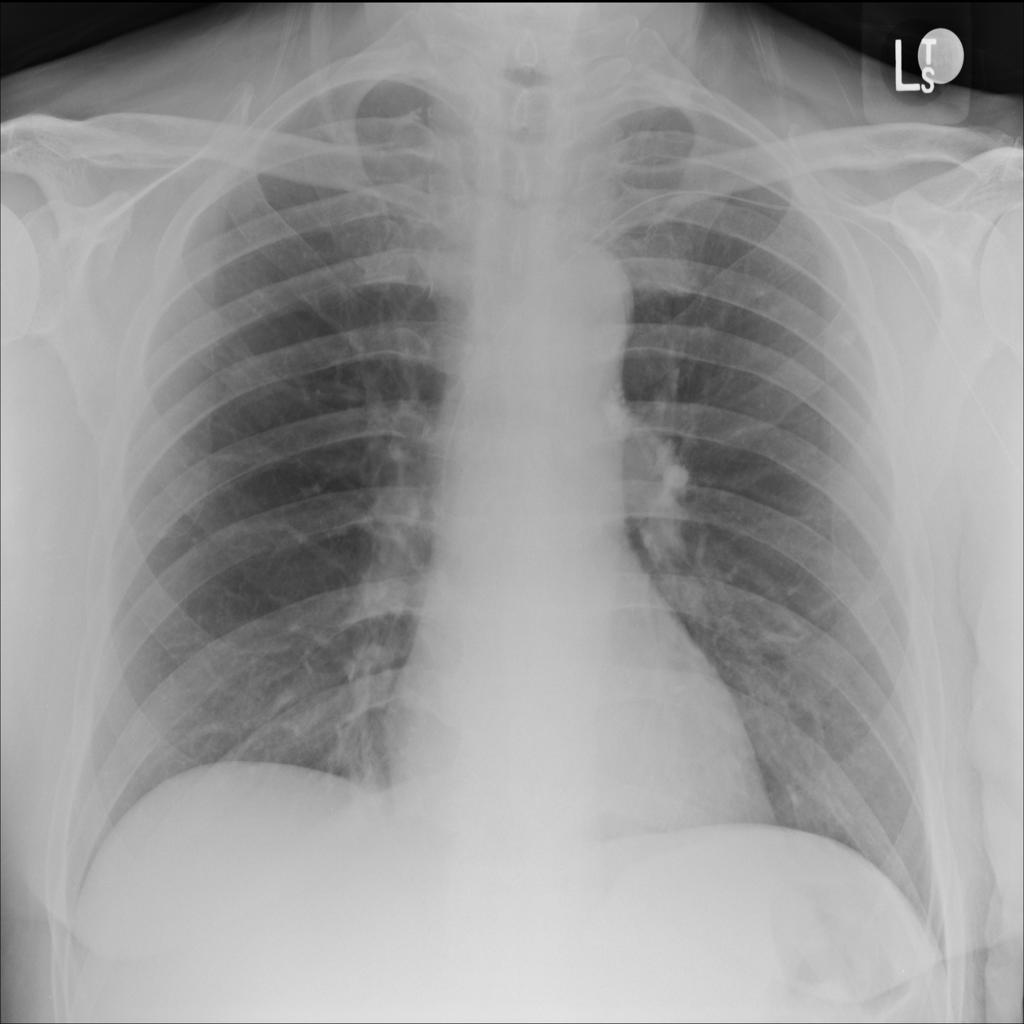nodule: (821, 311, 869, 364)
